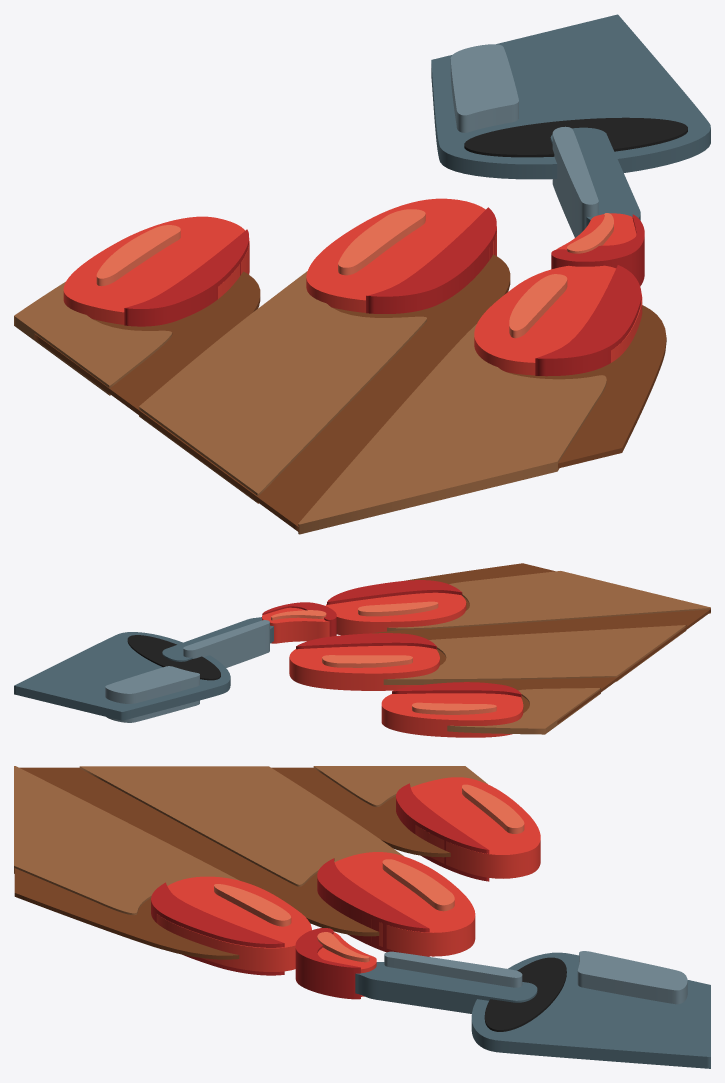
File: emoji_u1f485_1f3fe.glb
The picture shows the model from 3 angles, top to bottom: view 1: azimuth 30°, elevation 25°; view 2: azimuth 150°, elevation 25°; view 3: azimuth 270°, elevation 25°; orthographic projection. The views are drawn at different scales.
Visible parts, largest first — view 1: emoji_u1f485_1f3fe; view 2: emoji_u1f485_1f3fe; view 3: emoji_u1f485_1f3fe.
Boxes of the visible parts, x1,y1,x2,y2 form: emoji_u1f485_1f3fe: (14, 14, 710, 534); emoji_u1f485_1f3fe: (14, 563, 710, 737); emoji_u1f485_1f3fe: (14, 766, 710, 1068).
Bounding box in the file's own units: 0.0319 × 0.002 × 0.032.
